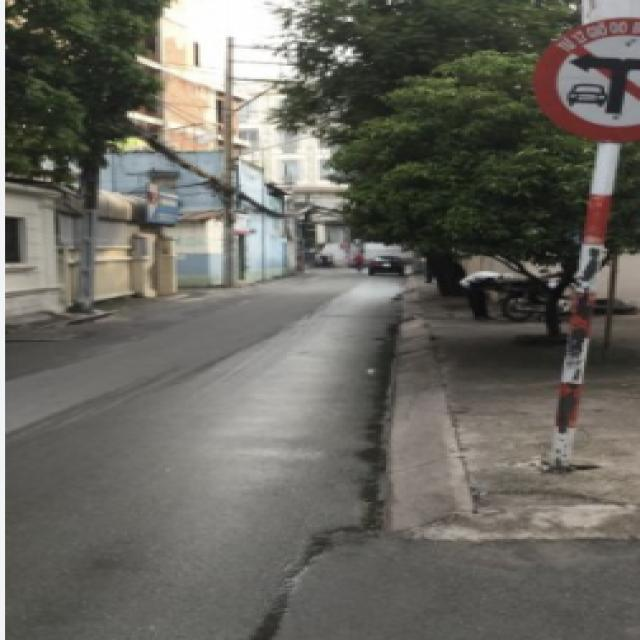137-cam-re-trai-va-re-phai: (528, 17, 640, 142)
